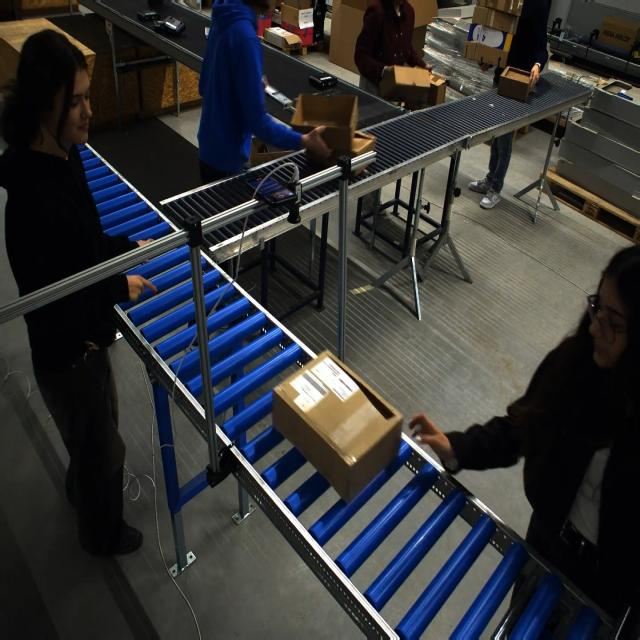box: (273, 355, 392, 500), (297, 91, 369, 163), (381, 64, 431, 104), (497, 66, 536, 102)
product: (155, 16, 185, 36), (308, 72, 336, 90), (136, 11, 160, 22), (205, 27, 211, 40)
